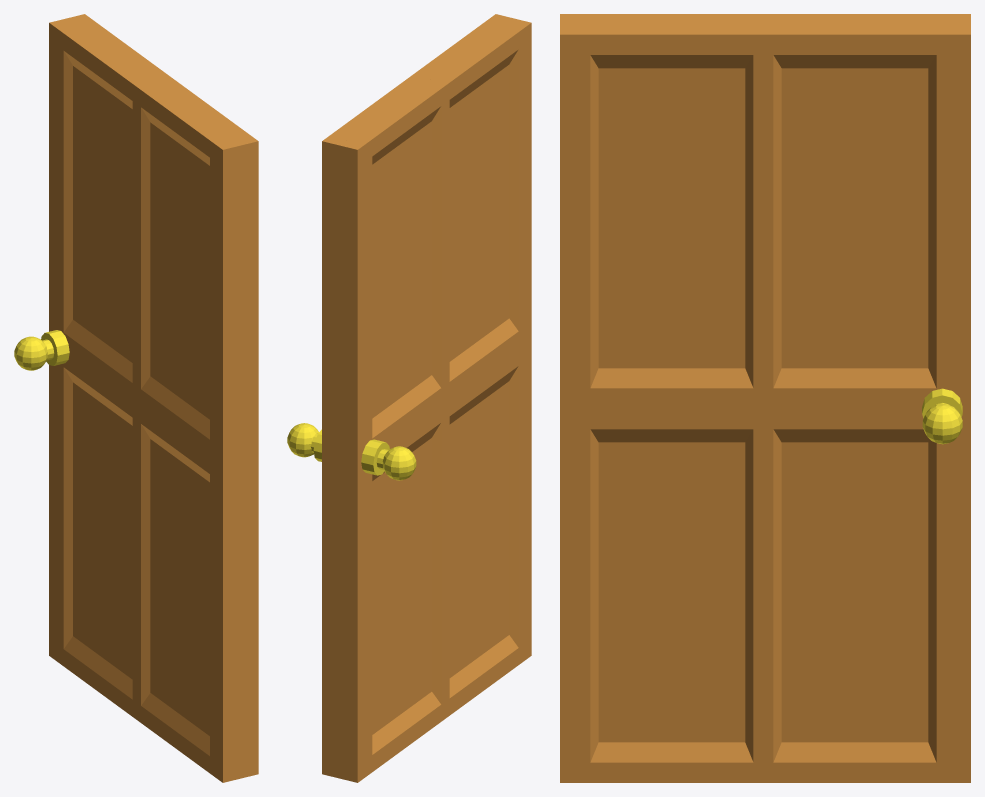
File: door.fbx
3 renders of one model, left to right at view 1: azimuth 30°, elevation 25°; view 2: azimuth 150°, elevation 25°; view 3: azimuth 270°, elevation 25°, orthographic. The views are drawn at different scales.
Visible parts, largest first — view 1: mesh965324668, mesh1513292634, mesh1037216044; view 2: mesh965324668, mesh1513292634, mesh1037216044, mesh290268221; view 3: mesh1513292634, mesh965324668, mesh290268221.
Boxes of the visible parts, x1,y1,x2,y2 form: mesh965324668: (49, 18, 240, 782); mesh1513292634: (67, 14, 258, 778); mesh1037216044: (14, 330, 69, 370); mesh965324668: (340, 18, 531, 782); mesh1513292634: (322, 14, 513, 778); mesh1037216044: (361, 439, 416, 480); mesh290268221: (287, 423, 321, 461); mesh1513292634: (560, 24, 970, 782); mesh965324668: (560, 14, 970, 24); mesh290268221: (922, 388, 962, 444).
Size of the model in its own units: 0.4175 by 2.03 by 1.01.
